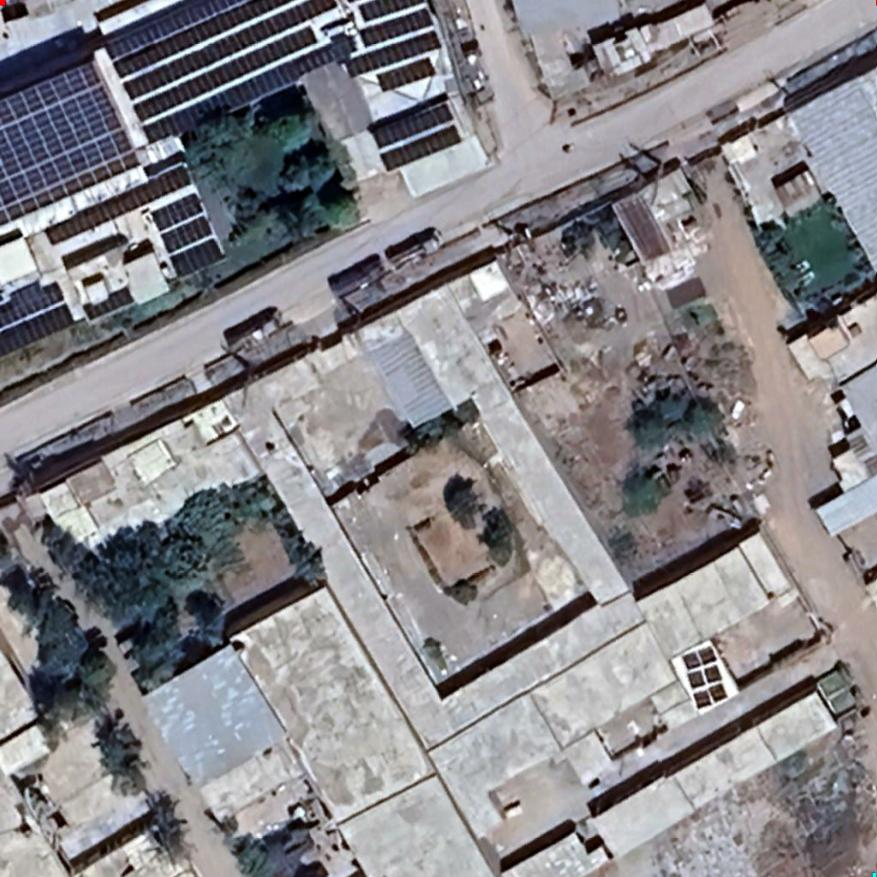Solarpanel: (82, 0, 450, 170), (0, 47, 152, 234), (30, 159, 200, 250), (361, 95, 473, 180), (143, 192, 232, 284), (0, 272, 83, 360), (677, 639, 734, 715)
